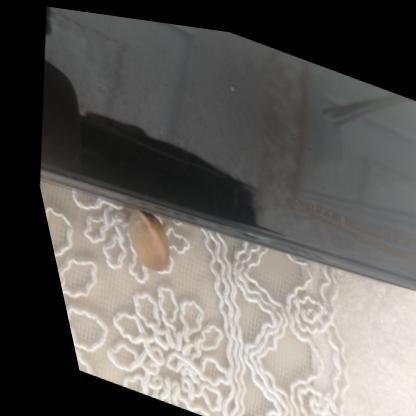pistachio: (123, 205, 173, 277)
